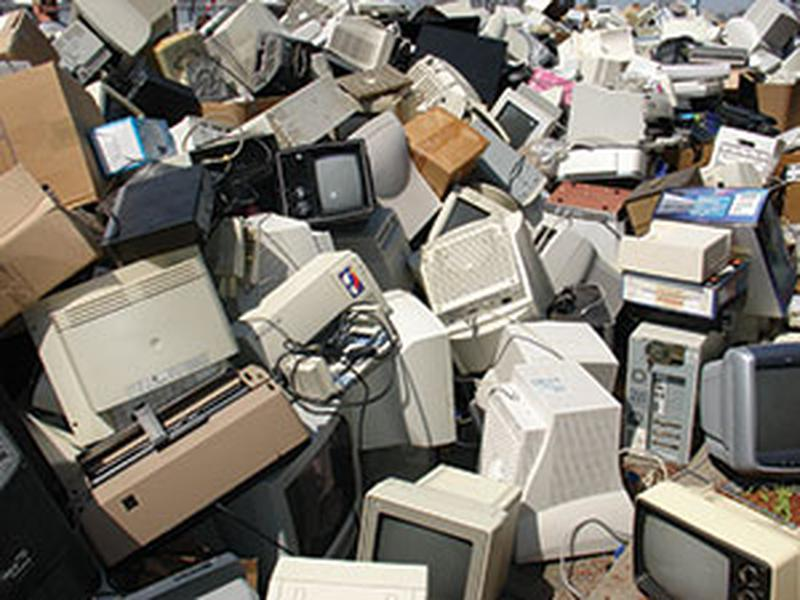cardboard: (1, 158, 97, 341), (1, 61, 107, 213), (402, 107, 488, 195)
printer: (49, 364, 317, 572), (237, 252, 415, 404)
tv_pc: (202, 413, 361, 582), (351, 459, 525, 599), (624, 474, 800, 600), (698, 338, 800, 477), (267, 134, 385, 233), (485, 84, 562, 153)
